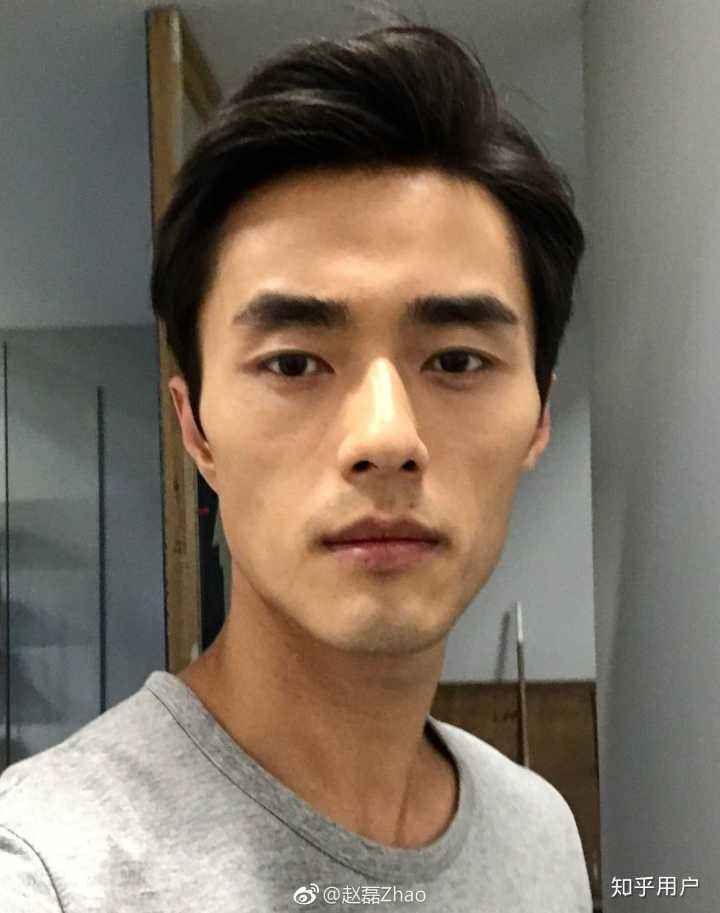person: (103, 44, 636, 817)
